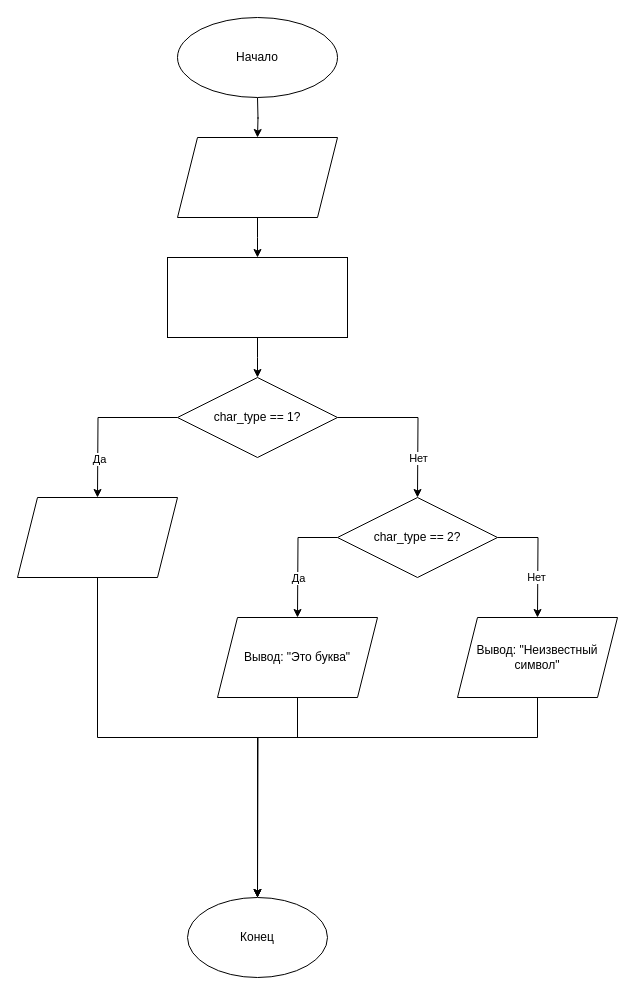
This 635x995 diagram has some shape labels left out. Each missing label, with the centre of its shape:
char_type = determine_char_type(input_char): (257,297)
Ввод input_char: (257,177)
Вывод: "Это цифра": (97,537)
